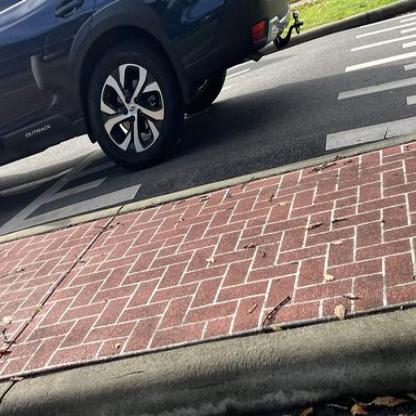Tire: (88, 43, 182, 170)
